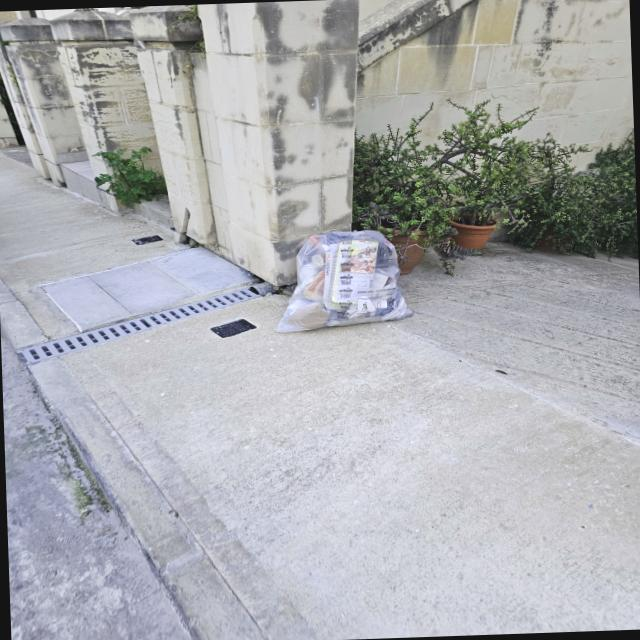grey_bag: (265, 224, 420, 334)
